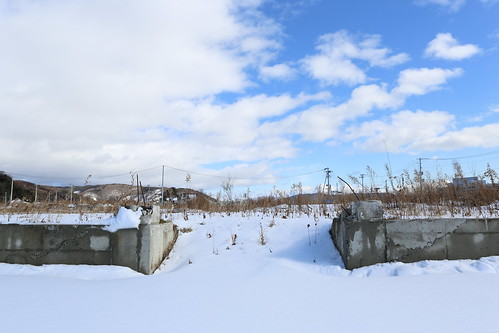mountain: (1, 175, 215, 196)
sky: (8, 1, 499, 172)
